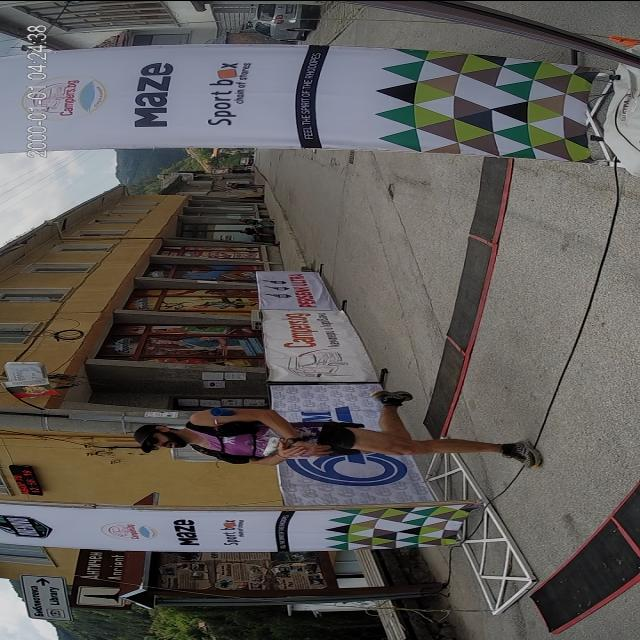runner: (108, 387, 548, 475)
